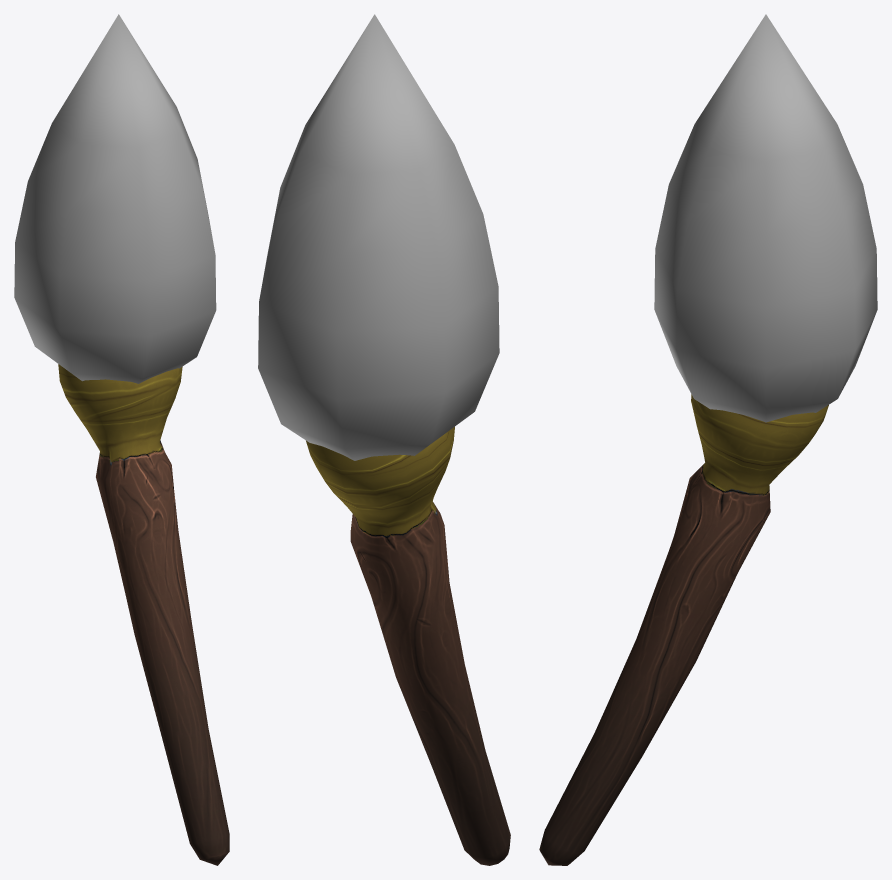
The model's file is sm_torch.fbx.
3 renders of one model, left to right at view 1: azimuth 30°, elevation 25°; view 2: azimuth 150°, elevation 25°; view 3: azimuth 270°, elevation 25°, orthographic. The views are drawn at different scales.
Parts seen in each view (by area): view 1: pCylinder1, walkingStick_low2; view 2: pCylinder1, walkingStick_low2; view 3: pCylinder1, walkingStick_low2.
Part boxes in pixels (x1,y1,x2,y2): pCylinder1: (14,14,216,383); walkingStick_low2: (58,364,229,865); pCylinder1: (258,14,499,460); walkingStick_low2: (306,427,510,865); pCylinder1: (654,14,877,422); walkingStick_low2: (539,394,828,865).
Size of what is drawn, in the model's own units: 154 by 666 by 240.
